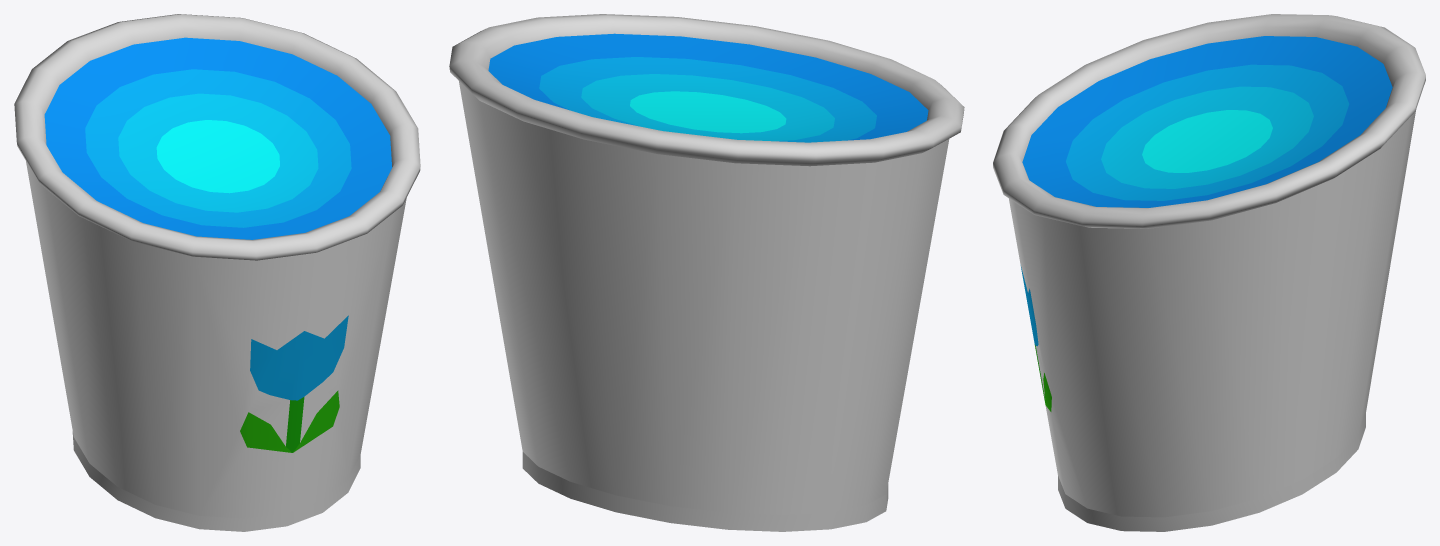
File: D_FBX_08_Portal_B.fbx
3 renders of one model, left to right at view 1: azimuth 30°, elevation 25°; view 2: azimuth 150°, elevation 25°; view 3: azimuth 270°, elevation 25°, orthographic. The views are drawn at different scales.
Parts seen in each view (by area): view 1: D_FBX_08_Portal_B; view 2: D_FBX_08_Portal_B; view 3: D_FBX_08_Portal_B.
Boxes of the visible parts, x1=… form: D_FBX_08_Portal_B: x1=14, y1=14, x2=420, y2=531; D_FBX_08_Portal_B: x1=449, y1=14, x2=964, y2=531; D_FBX_08_Portal_B: x1=993, y1=14, x2=1425, y2=531.
Size of the model in its own units: 236 by 242 by 227.
